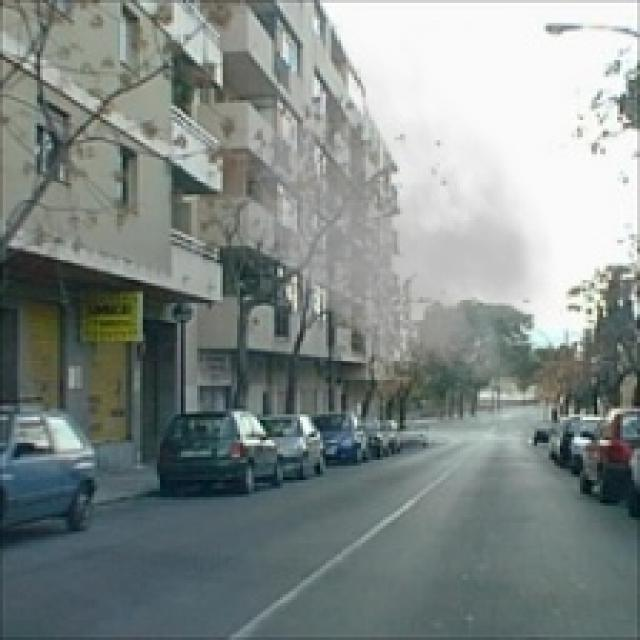smoke: (206, 17, 571, 397)
